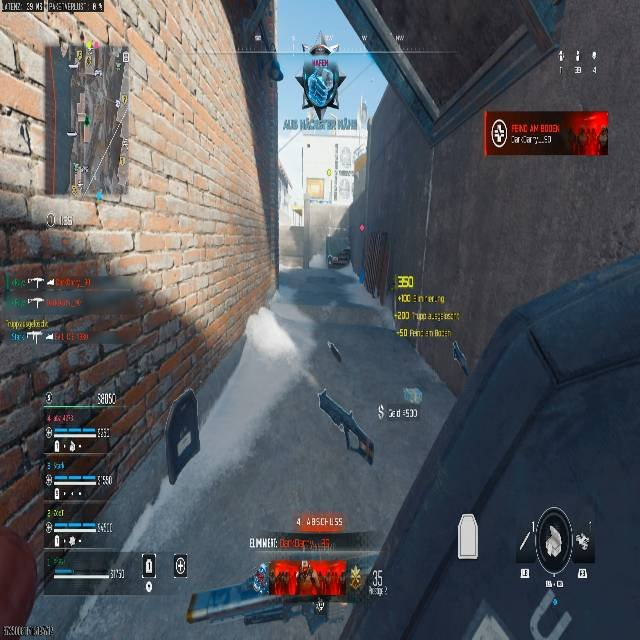head: (311, 35, 332, 57)
player: (296, 36, 346, 122)
